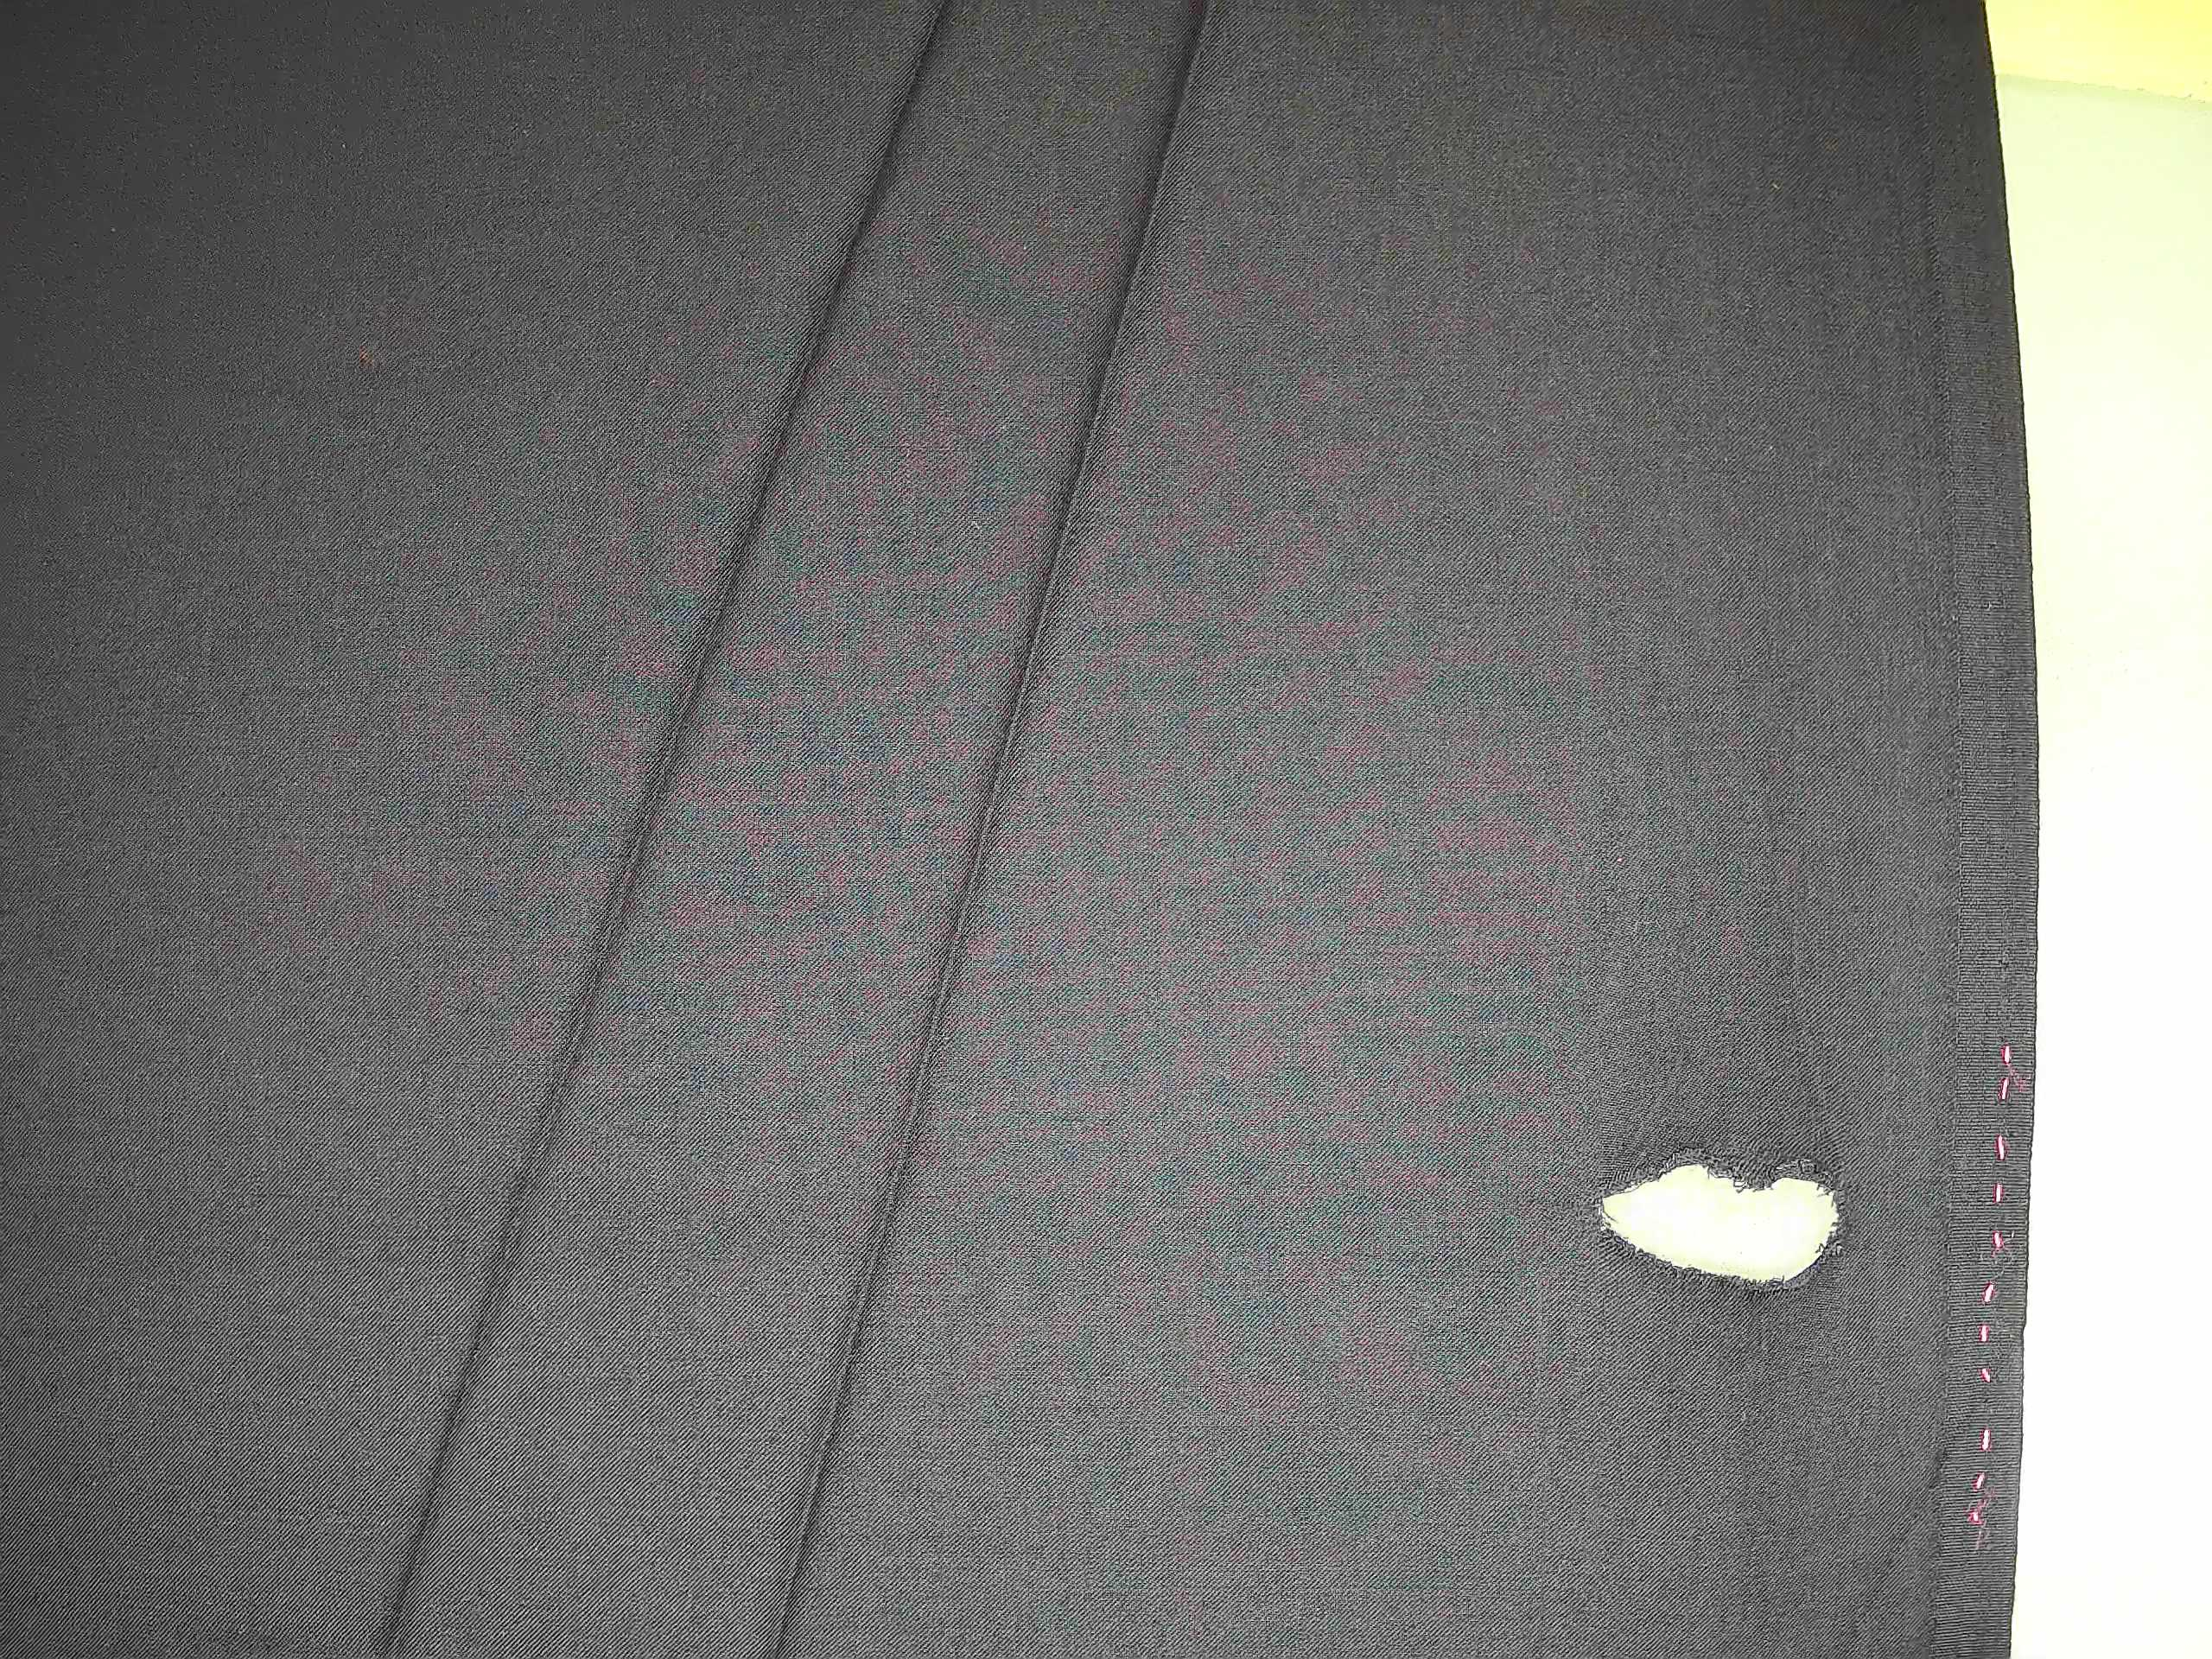brushed-hole: (1557, 1115, 1881, 1331)
